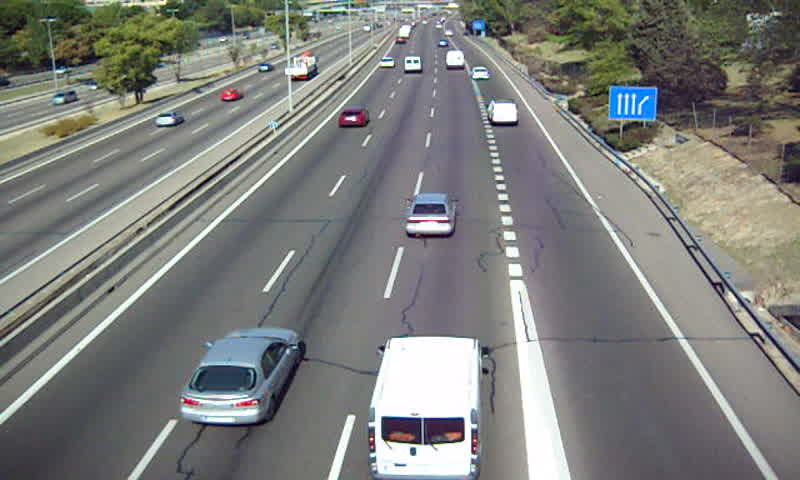car: (180, 328, 301, 426), (405, 193, 457, 237), (338, 108, 370, 127), (471, 65, 491, 80), (378, 56, 395, 68)
van: (368, 335, 485, 480), (489, 101, 518, 126), (445, 50, 465, 70), (403, 54, 422, 73)
